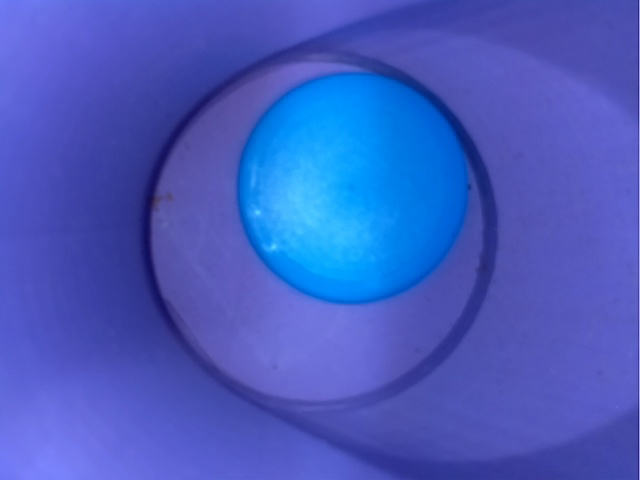bouchon: (215, 57, 486, 319)
